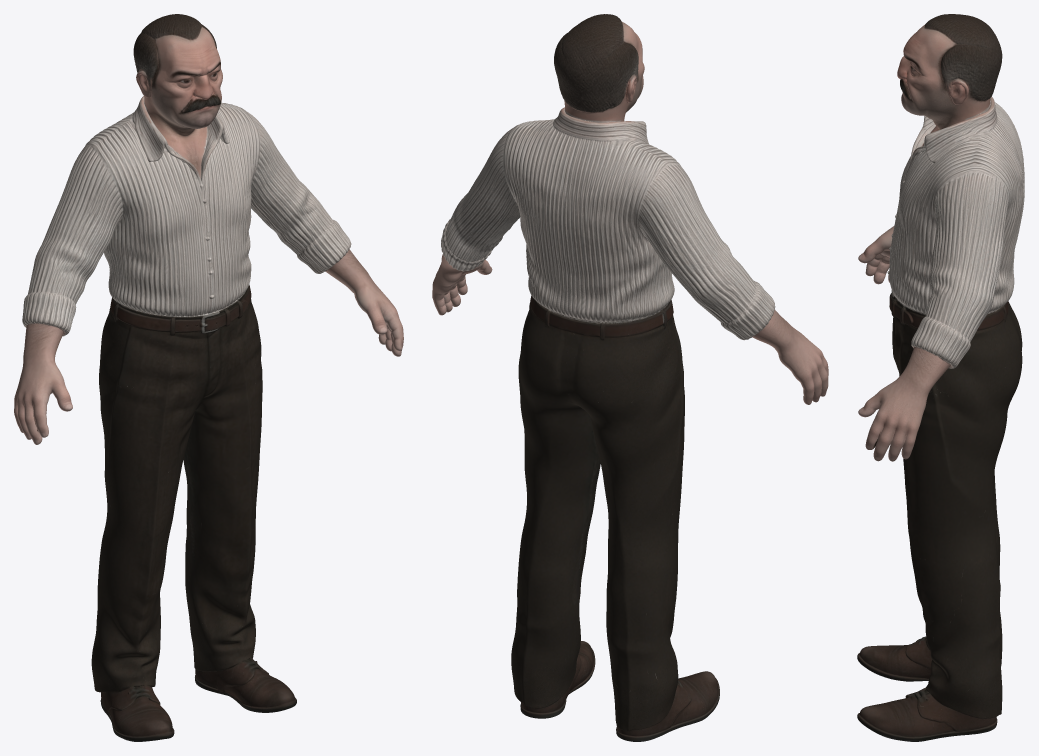
Rendered from dursun_ham_meshopt.glb.
3 renders of one model, left to right at view 1: azimuth 30°, elevation 25°; view 2: azimuth 150°, elevation 25°; view 3: azimuth 270°, elevation 25°, orthographic.
Size of the model in its own units: 1.1 by 1.9 by 0.4221.
1 material, 1 textured.
